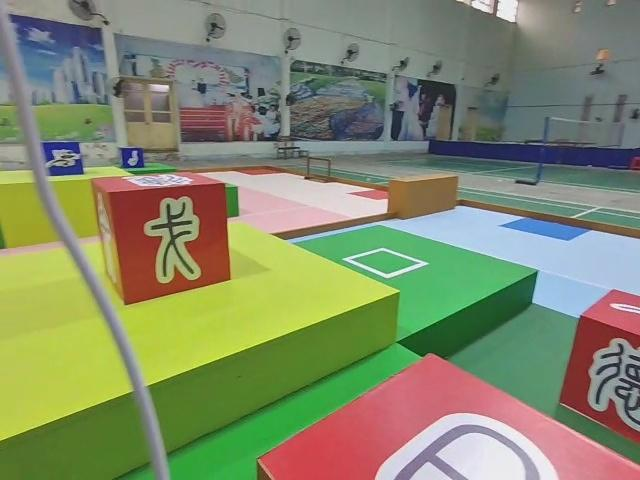R2 Fake: (253, 349, 640, 480), (87, 170, 233, 305), (555, 285, 640, 449)
